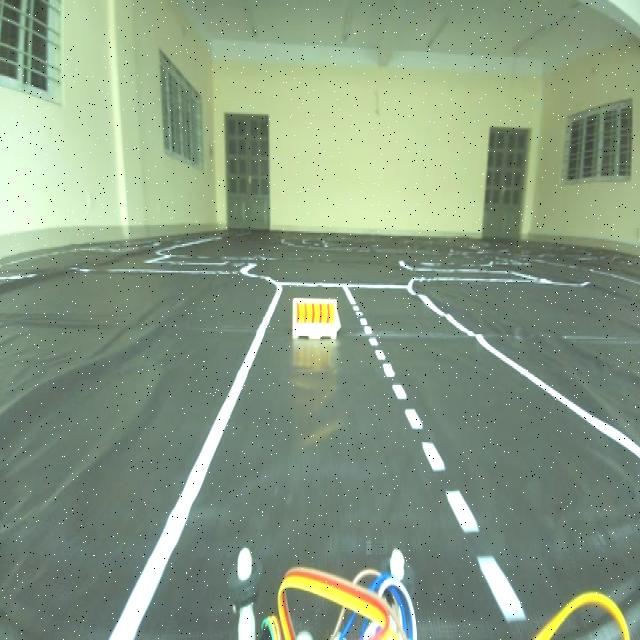roadblock: (289, 291, 345, 351)
